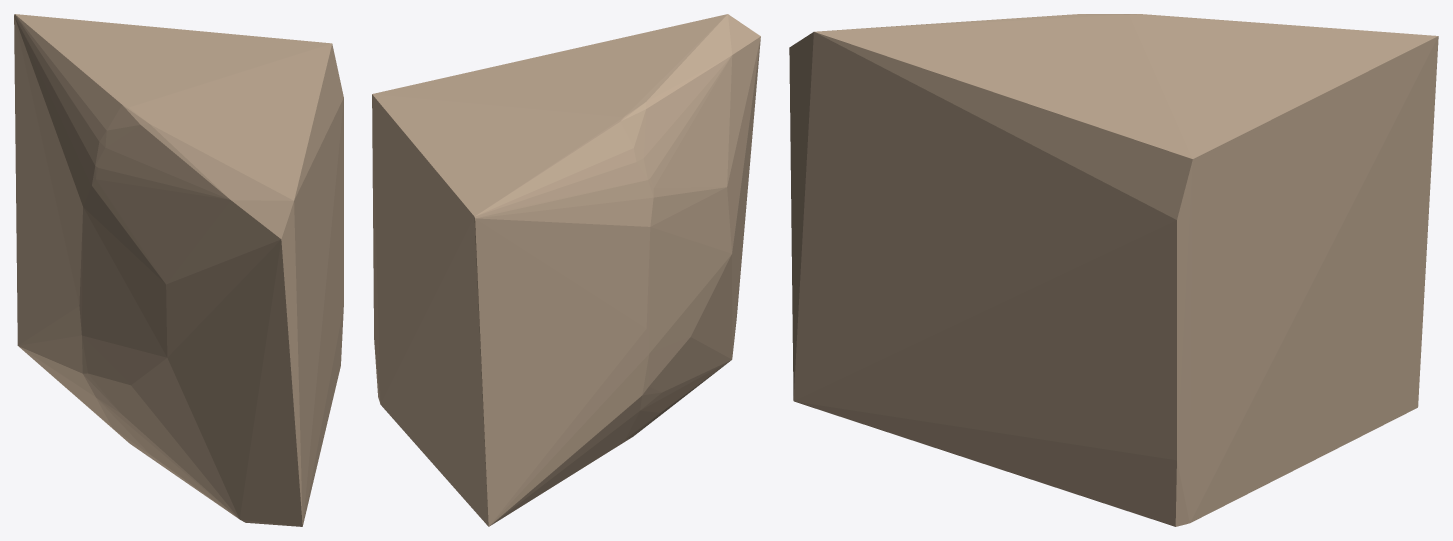
The model's file is ultrasound_b01.glb.
The picture shows the model from 3 angles, left to right: view 1: azimuth 30°, elevation 25°; view 2: azimuth 150°, elevation 25°; view 3: azimuth 270°, elevation 25°; orthographic projection. The views are drawn at different scales.
Parts seen in each view (by area): view 1: geometry_0; view 2: geometry_0; view 3: geometry_0.
Part boxes in pixels (<box>): geometry_0: <box>14,14,343,526</box>; geometry_0: <box>372,14,760,526</box>; geometry_0: <box>789,14,1438,526</box>.
Size of the model in its own units: 0.2688 by 0.3145 by 0.4794.
